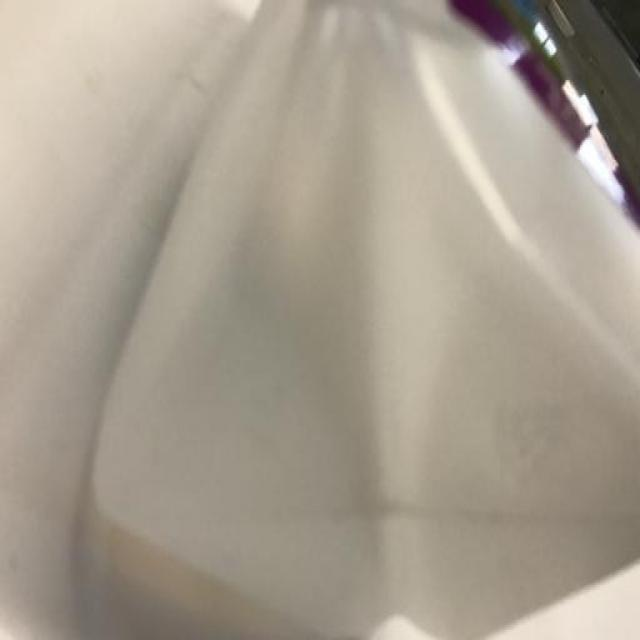plastic_bag: (2, 1, 640, 640)
